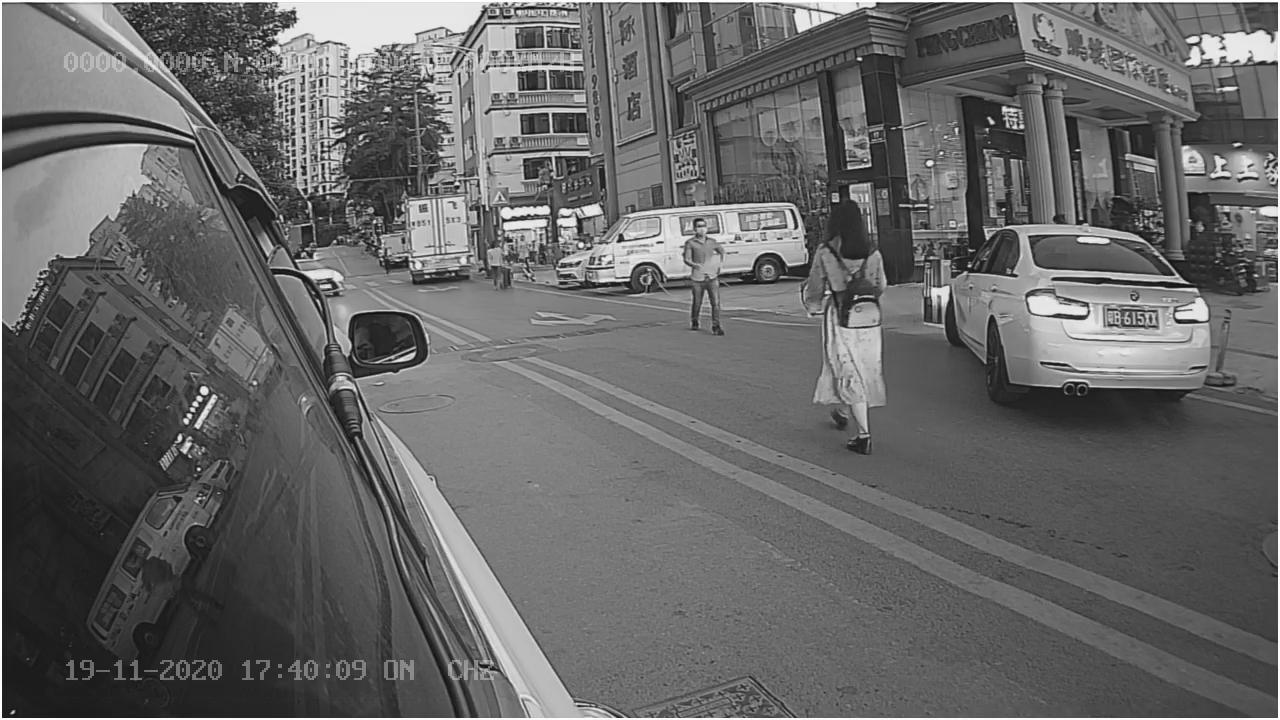person: (809, 199, 906, 454)
